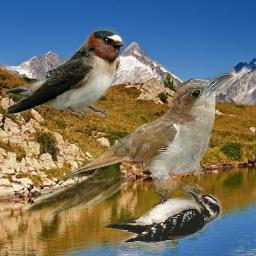Cuckoo: (22, 72, 234, 215)
Swallow: (2, 26, 129, 120)
Woodpecker: (103, 189, 228, 247)
